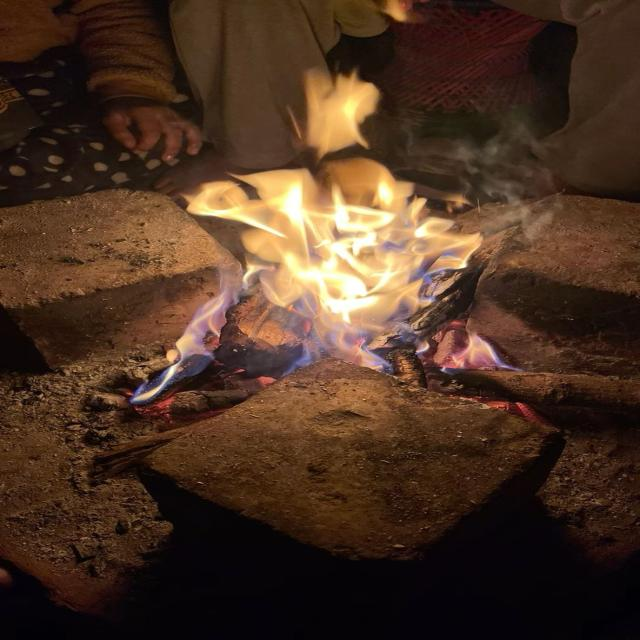fire: (179, 72, 477, 364)
